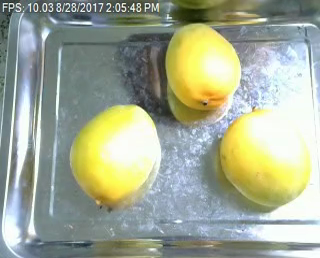Mango: (65, 103, 160, 205), (218, 107, 311, 206), (161, 18, 242, 109)
